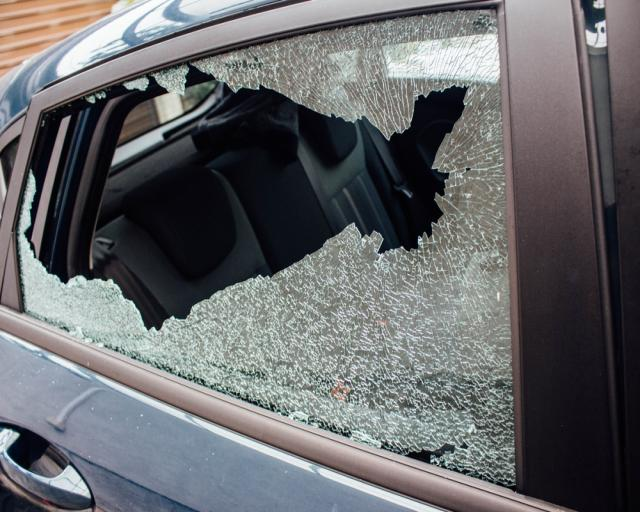glass shatter: (16, 9, 516, 489)
